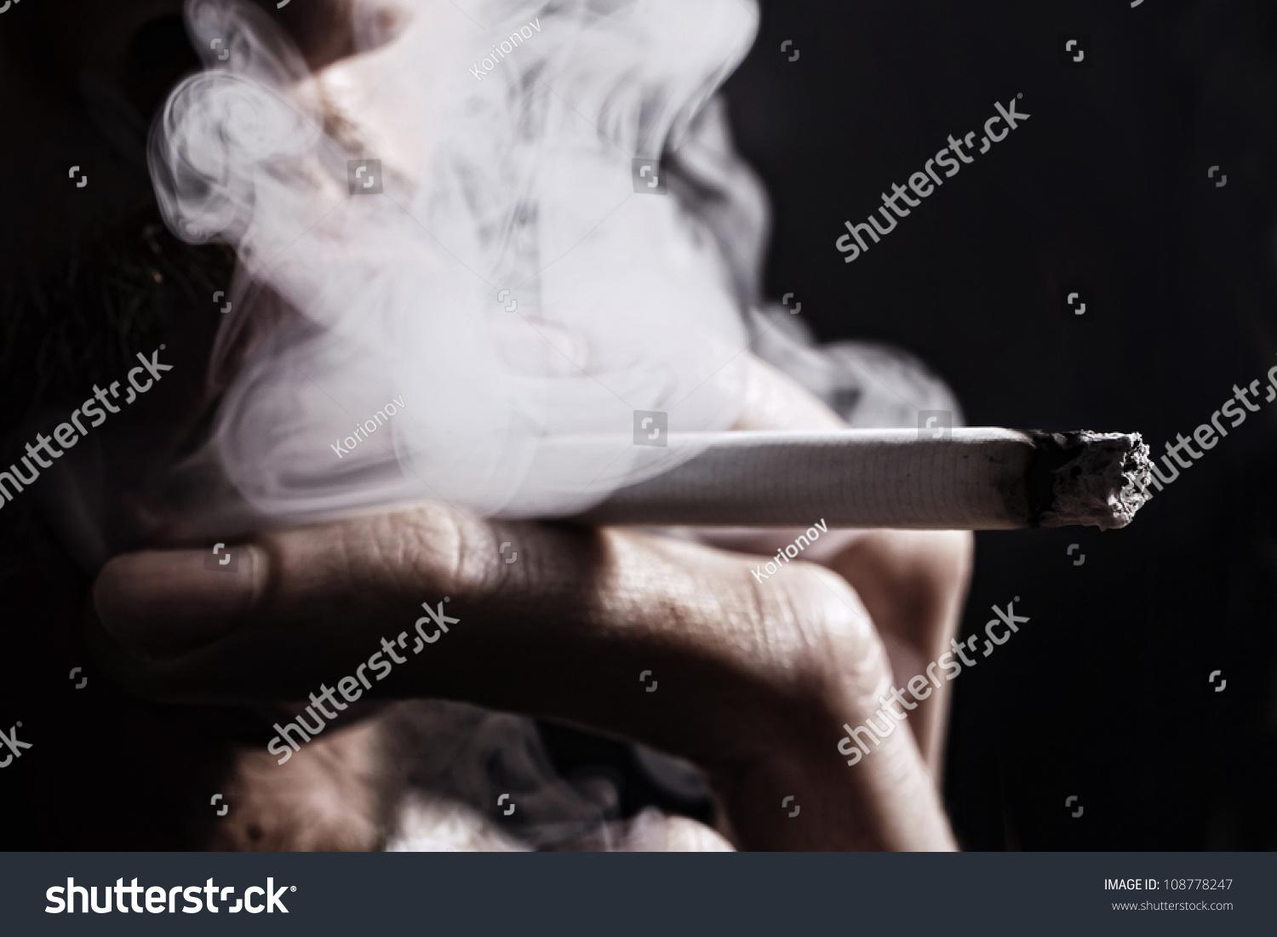cigarette: (574, 427, 1148, 529)
